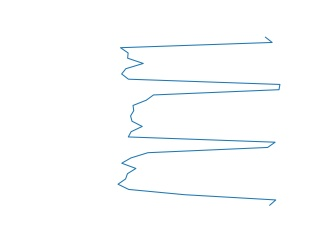majorRiverChannelBar: (116, 36, 283, 205)
